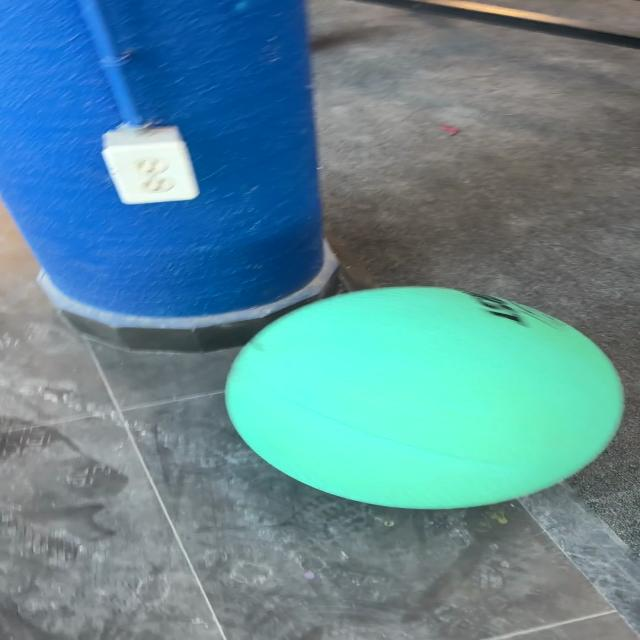Algae: (222, 284, 626, 510)
